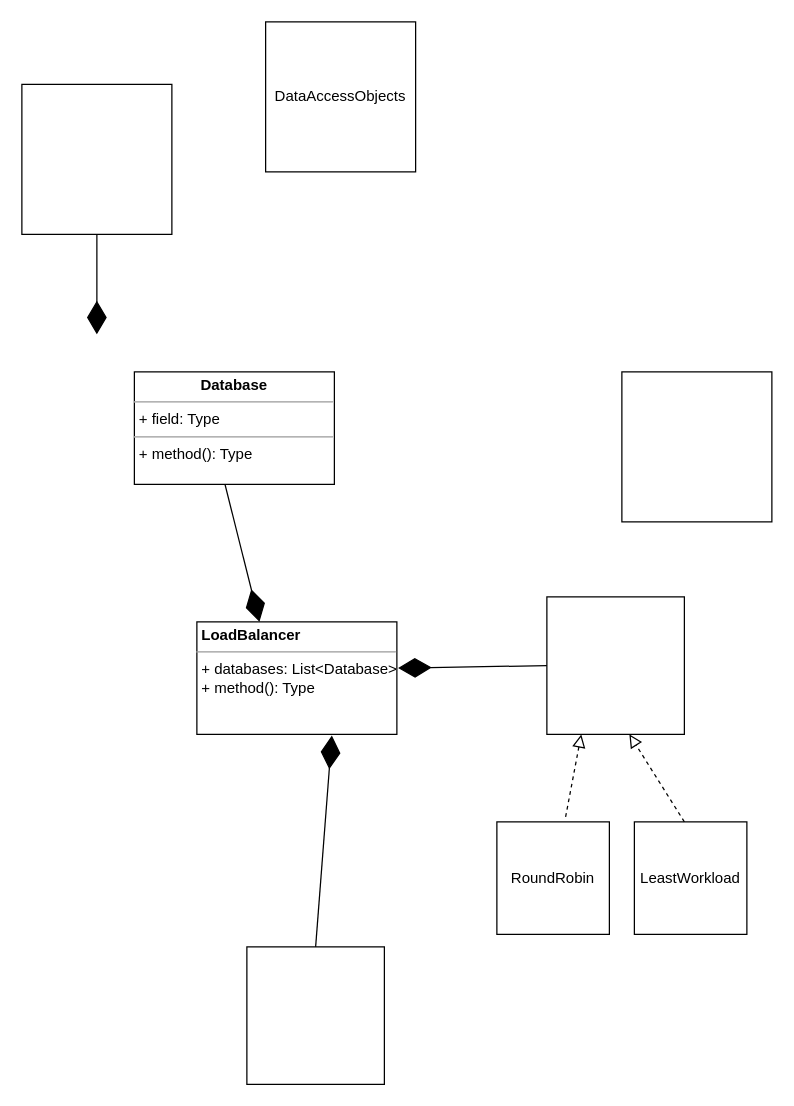
The diagram is 794 pixels wide and 1106 high, and some of its shapes have lost their labels. Each missing label, with the box of its shape:
DatabaseService -insert -update -delete -select: (21, 83, 172, 234)
ScheduleAlgorithm: (546, 596, 684, 734)
UserConnection: (246, 946, 384, 1084)
